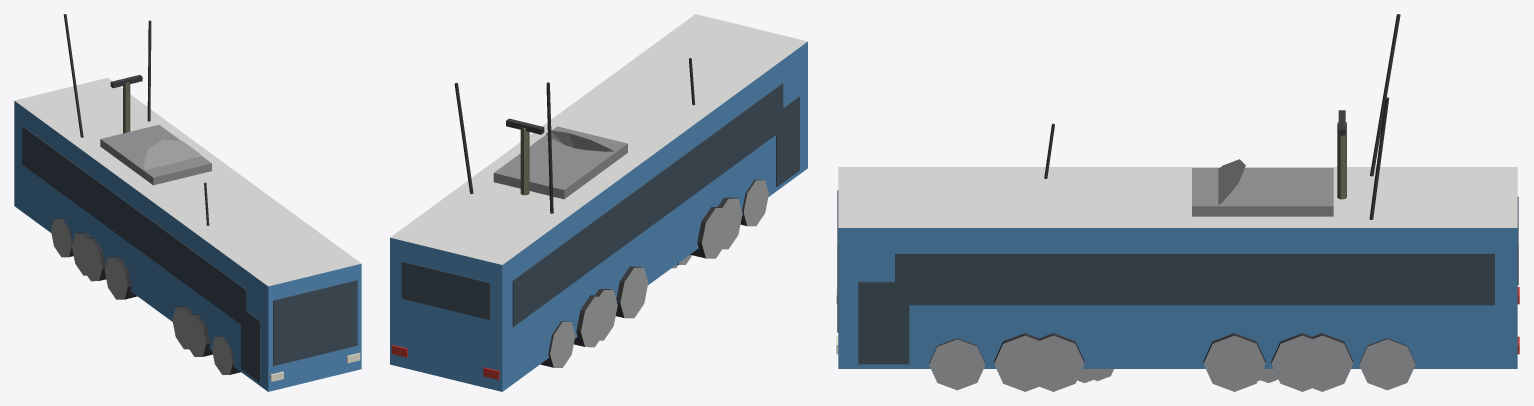
Rendered from ACO_CityVehicles.fbx.
3 renders of one model, left to right at view 1: azimuth 30°, elevation 25°; view 2: azimuth 150°, elevation 25°; view 3: azimuth 270°, elevation 25°, orthographic. The views are drawn at different scales.
Parts seen in each view (by area): view 1: CIV_Bus_Blue, MIL_Command, MIL_Comms; view 2: CIV_Bus_Blue, MIL_Command, MIL_Comms; view 3: CIV_Bus_Blue, MIL_Command, MIL_Comms.
Part boxes in pixels (x1=…): CIV_Bus_Blue: x1=14, y1=77, x2=361, y2=391; MIL_Command: x1=63, y1=14, x2=212, y2=356; MIL_Comms: x1=79, y1=75, x2=200, y2=349; CIV_Bus_Blue: x1=390, y1=14, x2=807, y2=391; MIL_Command: x1=454, y1=58, x2=742, y2=347; MIL_Comms: x1=506, y1=118, x2=726, y2=340; CIV_Bus_Blue: x1=836, y1=167, x2=1519, y2=390; MIL_Command: x1=994, y1=14, x2=1400, y2=391; MIL_Comms: x1=1022, y1=110, x2=1346, y2=391.
Size of the model in its own units: 2.76 by 6.21 by 12.08.
Materials: 1 (1 with a texture image).
